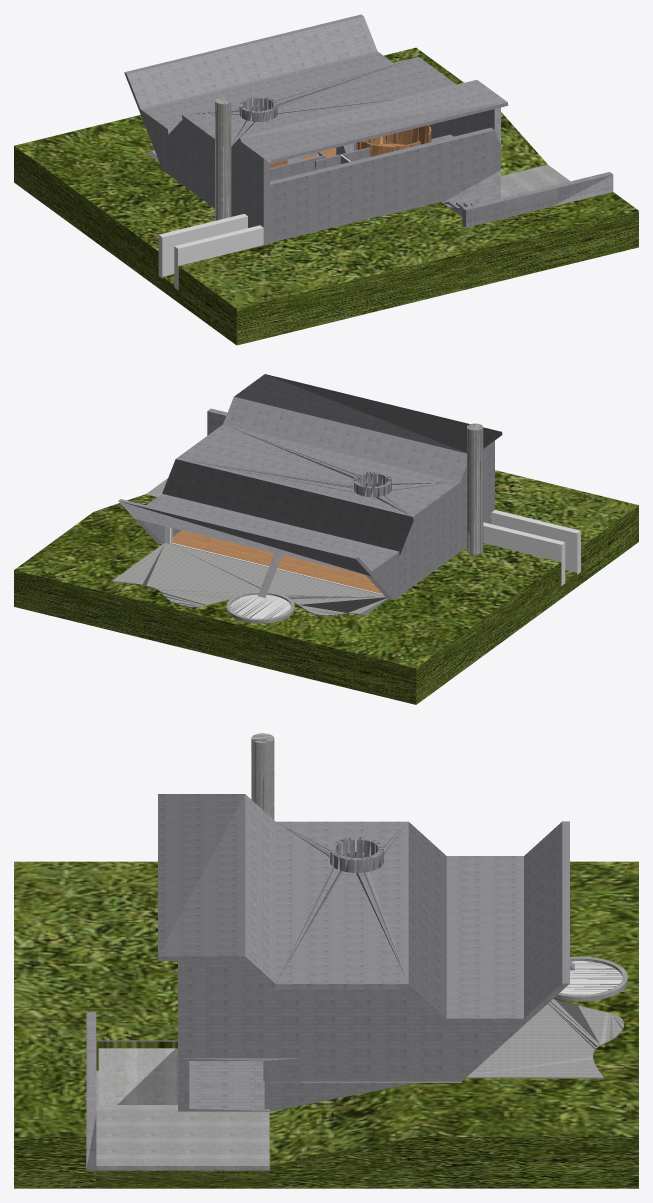
Rendered from lampens.gltf.
The picture shows the model from 3 angles, top to bottom: view 1: azimuth 30°, elevation 25°; view 2: azimuth 150°, elevation 25°; view 3: azimuth 270°, elevation 25°; orthographic projection. The views are drawn at different scales.
Parts seen in each view (by area): view 1: fras, Uitsnijding volumes (×3), Uitsnijding volumes 21 buitenwanden (×2), Polygon (×4), Extrusie (×2), Muur 21 buitenwanden, Ronde muur 21 buitenwanden; view 2: fras, Uitsnijding volumes (×2), Intersectie volumes, Polygon (×5), Uitsnijding volumes 21 buitenwanden, Extrusie, water; view 3: fras, Uitsnijding volumes (×3), Uitsnijding volumes 21 buitenwanden, Extrusie (×3), Intersectie volumes, Generiek volume 24 trappen en hellingen, Muur 21 buitenwanden, water.
Part boxes in pixels (x1=…): fras: x1=14, y1=47, x2=638, y2=345; Uitsnijding volumes (×3): x1=124, y1=14, x2=508, y2=216; Uitsnijding volumes 21 buitenwanden (×2): x1=141, y1=107, x2=500, y2=244; Polygon (×4): x1=158, y1=214, x2=263, y2=289; Extrusie (×2): x1=215, y1=97, x2=569, y2=220; Muur 21 buitenwanden: x1=462, y1=172, x2=613, y2=227; Ronde muur 21 buitenwanden: x1=356, y1=125, x2=431, y2=156; fras: x1=14, y1=470, x2=638, y2=704; Uitsnijding volumes (×2): x1=118, y1=374, x2=502, y2=576; Intersectie volumes: x1=111, y1=543, x2=387, y2=615; Polygon (×5): x1=172, y1=510, x2=580, y2=593; Uitsnijding volumes 21 buitenwanden: x1=135, y1=440, x2=494, y2=600; Extrusie: x1=467, y1=423, x2=483, y2=554; water: x1=230, y1=594, x2=290, y2=618; fras: x1=14, y1=861, x2=638, y2=1188; Uitsnijding volumes (×3): x1=158, y1=794, x2=569, y2=1111; Uitsnijding volumes 21 buitenwanden: x1=178, y1=961, x2=523, y2=1081; Extrusie (×3): x1=96, y1=733, x2=461, y2=1170; Intersectie volumes: x1=466, y1=999, x2=623, y2=1078; Generiek volume 24 trappen en hellingen: x1=98, y1=1040, x2=177, y2=1104; Muur 21 buitenwanden: x1=86, y1=1012, x2=96, y2=1170; water: x1=560, y1=961, x2=622, y2=994.
Size of what is drawn, in the model's own units: 9502 by 3640 by 9104.
48 materials, 31 textured.
